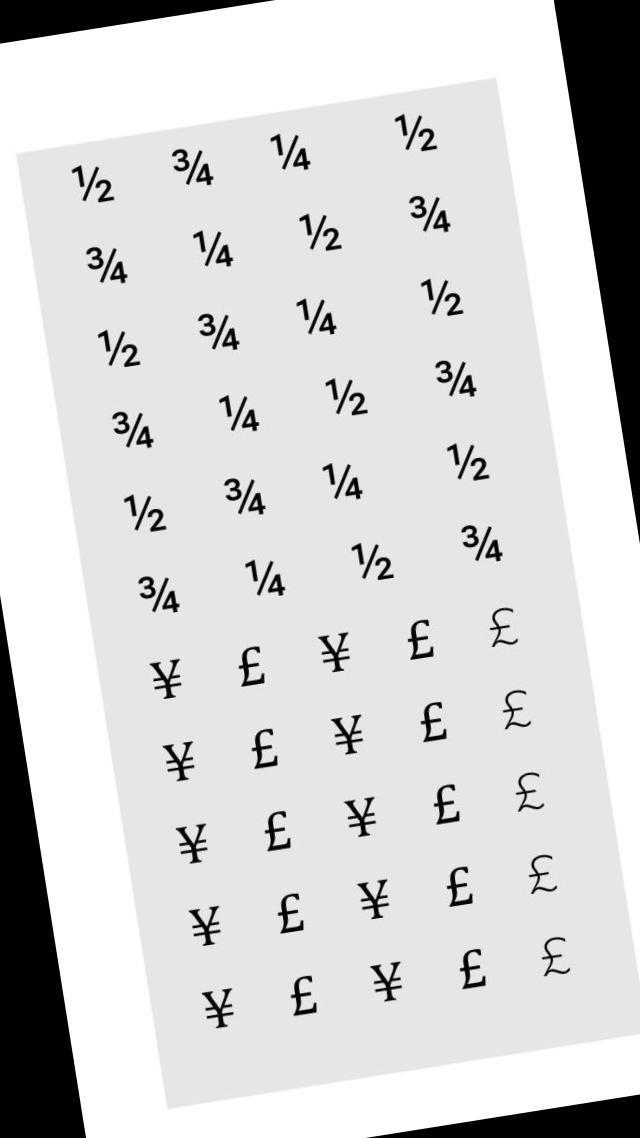ASCII: (442, 428, 498, 498), (454, 509, 511, 577), (429, 348, 485, 415), (346, 526, 399, 596), (238, 542, 290, 612), (212, 382, 266, 449), (290, 283, 343, 351), (320, 366, 374, 432), (316, 448, 368, 516), (403, 186, 458, 250), (296, 203, 350, 268), (218, 465, 272, 530), (186, 220, 240, 284), (93, 316, 147, 380), (416, 266, 470, 330), (106, 400, 160, 463), (80, 236, 134, 299), (132, 560, 185, 624), (120, 481, 172, 545), (64, 155, 120, 214), (192, 303, 245, 365), (167, 138, 219, 198), (265, 121, 315, 183), (314, 618, 361, 683), (367, 952, 414, 1016), (198, 978, 245, 1042), (172, 814, 218, 878), (520, 840, 565, 905), (145, 648, 192, 710), (184, 894, 230, 957), (341, 787, 386, 851), (482, 598, 527, 662), (389, 106, 443, 159), (398, 607, 442, 671), (158, 729, 204, 790), (230, 635, 274, 698), (354, 869, 399, 930), (508, 762, 552, 824), (496, 682, 540, 744), (242, 722, 286, 783), (282, 967, 325, 1029), (328, 704, 372, 764), (255, 802, 298, 863), (424, 775, 466, 837), (438, 855, 480, 916), (412, 695, 454, 756), (452, 941, 494, 1001), (268, 882, 310, 942), (534, 932, 576, 984)
